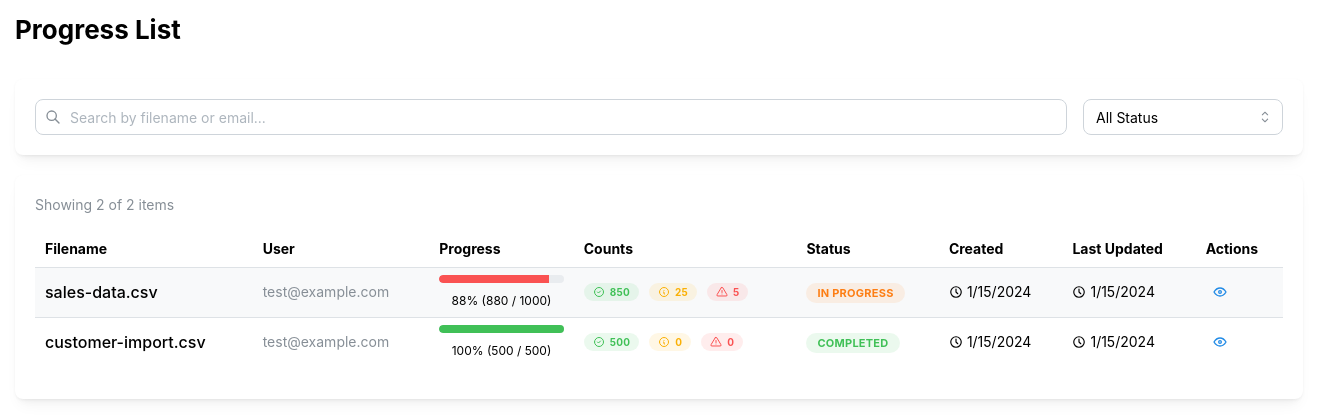
Test: ProgressList Component › Empty State › shows empty message when no data matches filters
Expected: the text "sales-data.csv" is shown, [45,282,158,302]
Step 1. Type "nonexistent" into the field with placeholder "Search by filename or email..." → (551, 117), box [35,99,1067,135]
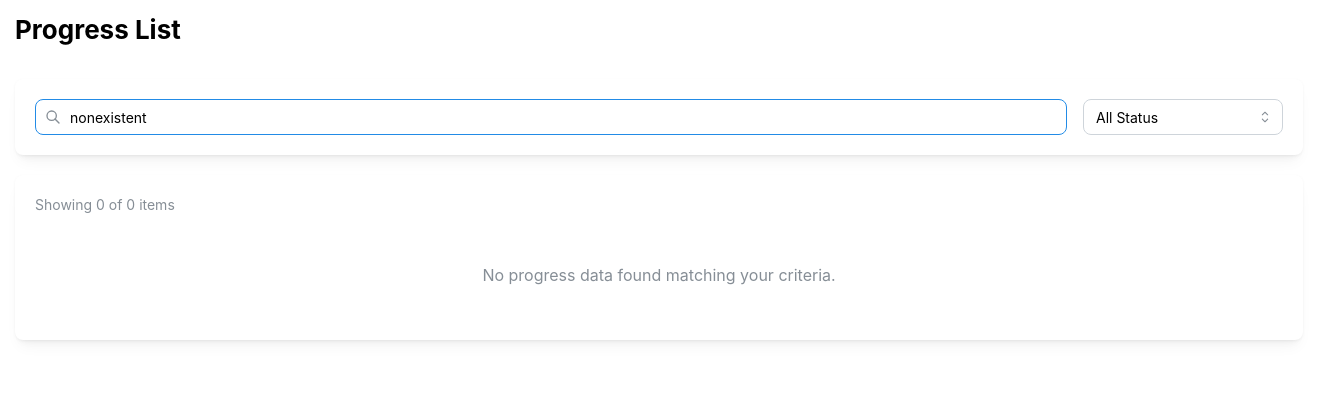
Now the text "No progress data found matching your criteria." is shown, box [482,265,836,285]
